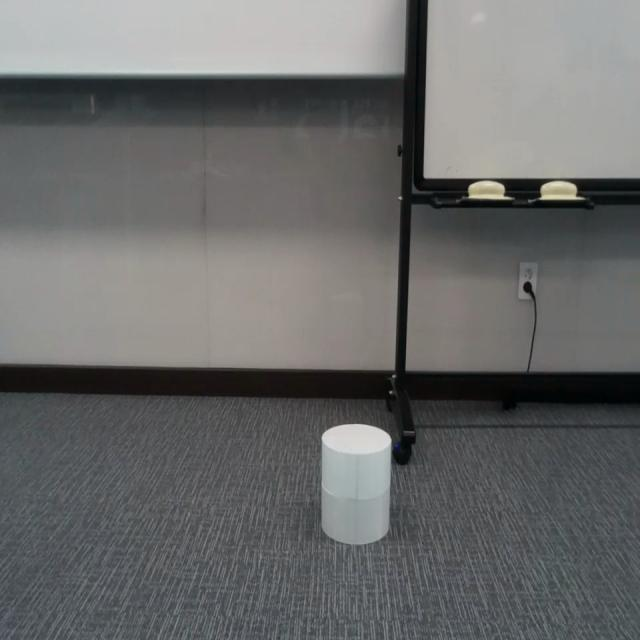cylinder: (320, 422, 391, 544)
